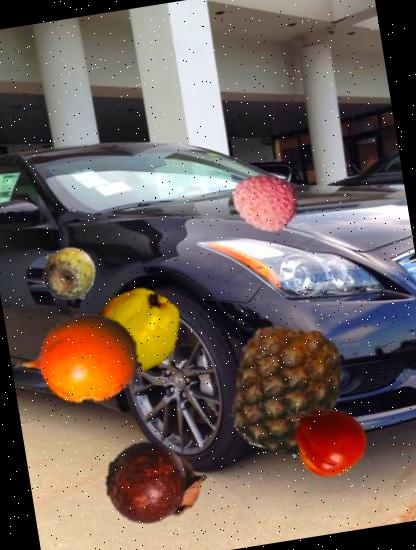Cactus: (36, 240, 101, 305)
Granadilla: (5, 287, 150, 432)
Lychee: (226, 163, 304, 241)
Mangostan: (97, 429, 210, 542)
Pineapple: (214, 316, 360, 461)
Quince: (88, 280, 186, 378)
Tomato: (287, 400, 371, 485)
